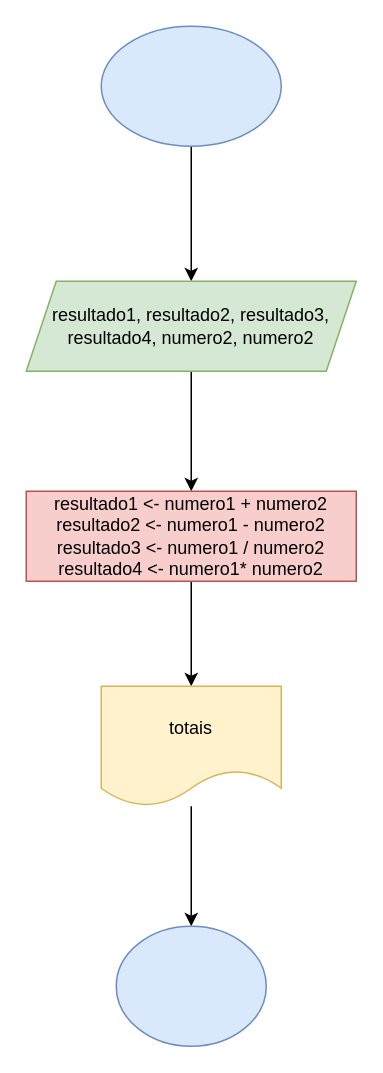
The diagram is 383 pixels wide and 1073 high, and some of its shapes have lost their labels. The centre of each missing label's shape, as x and y in pixels:
fim: point (190, 985)
inicio: point (190, 85)
